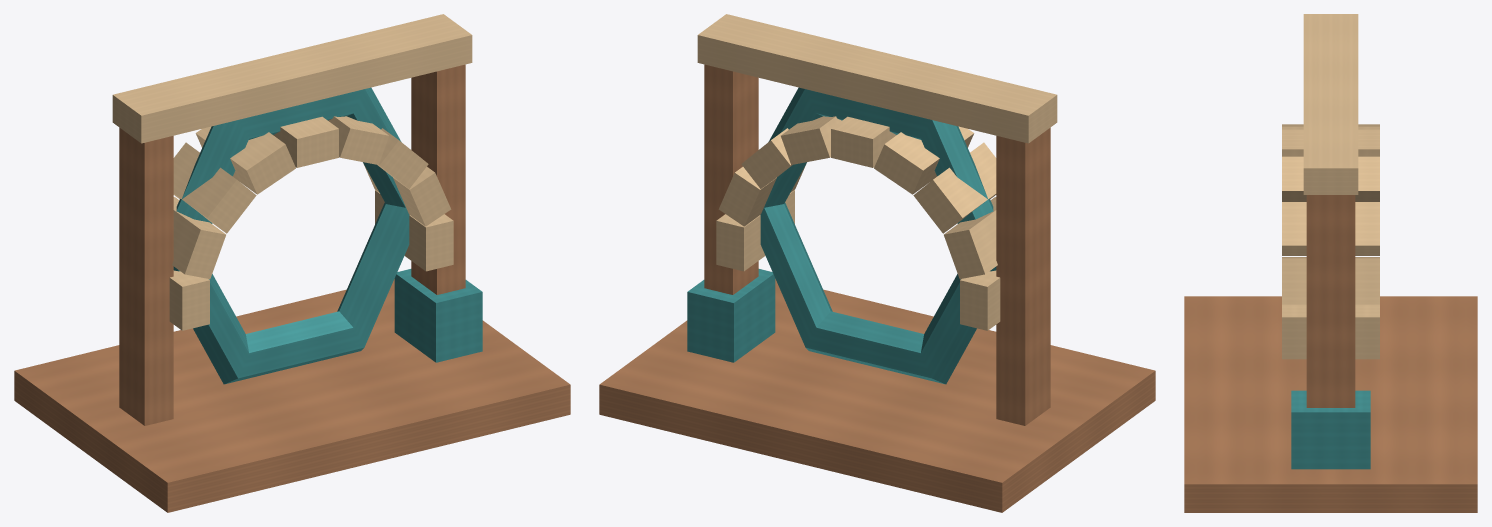
Rendered from atlas100-s097-a01.lod2.glb.
The picture shows the model from 3 angles, left to right: view 1: azimuth 30°, elevation 25°; view 2: azimuth 150°, elevation 25°; view 3: azimuth 270°, elevation 25°; orthographic projection. The views are drawn at different scales.
Visible parts, largest first — view 1: atlas100-s097-a01:part-000, atlas100-s097-a01:part-008, atlas100-s097-a01:part-007, atlas100-s097-a01:part-003, atlas100-s097-a01:part-005, atlas100-s097-a01:part-006, atlas100-s097-a01:part-015, atlas100-s097-a01:part-014, atlas100-s097-a01:part-016, atlas100-s097-a01:part-009, atlas100-s097-a01:part-013, atlas100-s097-a01:part-017 (+3 smaller); view 2: atlas100-s097-a01:part-000, atlas100-s097-a01:part-008, atlas100-s097-a01:part-007, atlas100-s097-a01:part-003, atlas100-s097-a01:part-005, atlas100-s097-a01:part-006, atlas100-s097-a01:part-015, atlas100-s097-a01:part-014, atlas100-s097-a01:part-016, atlas100-s097-a01:part-009, atlas100-s097-a01:part-013, atlas100-s097-a01:part-017 (+3 smaller); view 3: atlas100-s097-a01:part-000, atlas100-s097-a01:part-005, atlas100-s097-a01:part-007, atlas100-s097-a01:part-006, atlas100-s097-a01:part-009, atlas100-s097-a01:part-011, atlas100-s097-a01:part-010, atlas100-s097-a01:part-012, atlas100-s097-a01:part-013.
Part boxes in pixels (box(x1,y1,x2,y2)): atlas100-s097-a01:part-000: box(14, 279, 570, 512); atlas100-s097-a01:part-008: box(173, 87, 409, 384); atlas100-s097-a01:part-007: box(112, 14, 472, 143); atlas100-s097-a01:part-003: box(119, 127, 173, 425); atlas100-s097-a01:part-005: box(411, 64, 465, 294); atlas100-s097-a01:part-006: box(394, 269, 482, 362); atlas100-s097-a01:part-015: box(173, 142, 256, 233); atlas100-s097-a01:part-014: box(195, 126, 295, 194); atlas100-s097-a01:part-016: box(172, 197, 225, 278); atlas100-s097-a01:part-009: box(375, 190, 453, 271); atlas100-s097-a01:part-013: box(273, 116, 338, 167); atlas100-s097-a01:part-017: box(169, 270, 209, 330); atlas100-s097-a01:part-000: box(599, 279, 1155, 512); atlas100-s097-a01:part-008: box(760, 87, 996, 384); atlas100-s097-a01:part-007: box(697, 14, 1057, 143); atlas100-s097-a01:part-003: box(996, 127, 1050, 425); atlas100-s097-a01:part-005: box(704, 64, 758, 294); atlas100-s097-a01:part-006: box(687, 269, 775, 362); atlas100-s097-a01:part-015: box(913, 142, 996, 233); atlas100-s097-a01:part-014: box(874, 126, 974, 194); atlas100-s097-a01:part-016: box(944, 197, 997, 278); atlas100-s097-a01:part-009: box(716, 190, 794, 271); atlas100-s097-a01:part-013: box(831, 116, 896, 167); atlas100-s097-a01:part-017: box(960, 270, 1000, 330); atlas100-s097-a01:part-000: box(1184, 296, 1477, 512); atlas100-s097-a01:part-005: box(1306, 195, 1355, 407); atlas100-s097-a01:part-007: box(1303, 14, 1358, 194); atlas100-s097-a01:part-006: box(1291, 390, 1370, 469); atlas100-s097-a01:part-009: box(1282, 304, 1379, 359); atlas100-s097-a01:part-011: box(1282, 202, 1379, 255); atlas100-s097-a01:part-010: box(1282, 257, 1379, 304); atlas100-s097-a01:part-012: box(1282, 156, 1379, 201); atlas100-s097-a01:part-013: box(1282, 129, 1379, 156).
Bounding box in the file's own units: 3.64 × 2.96 × 2.4.
Materials: 3 (3 with a texture image).
